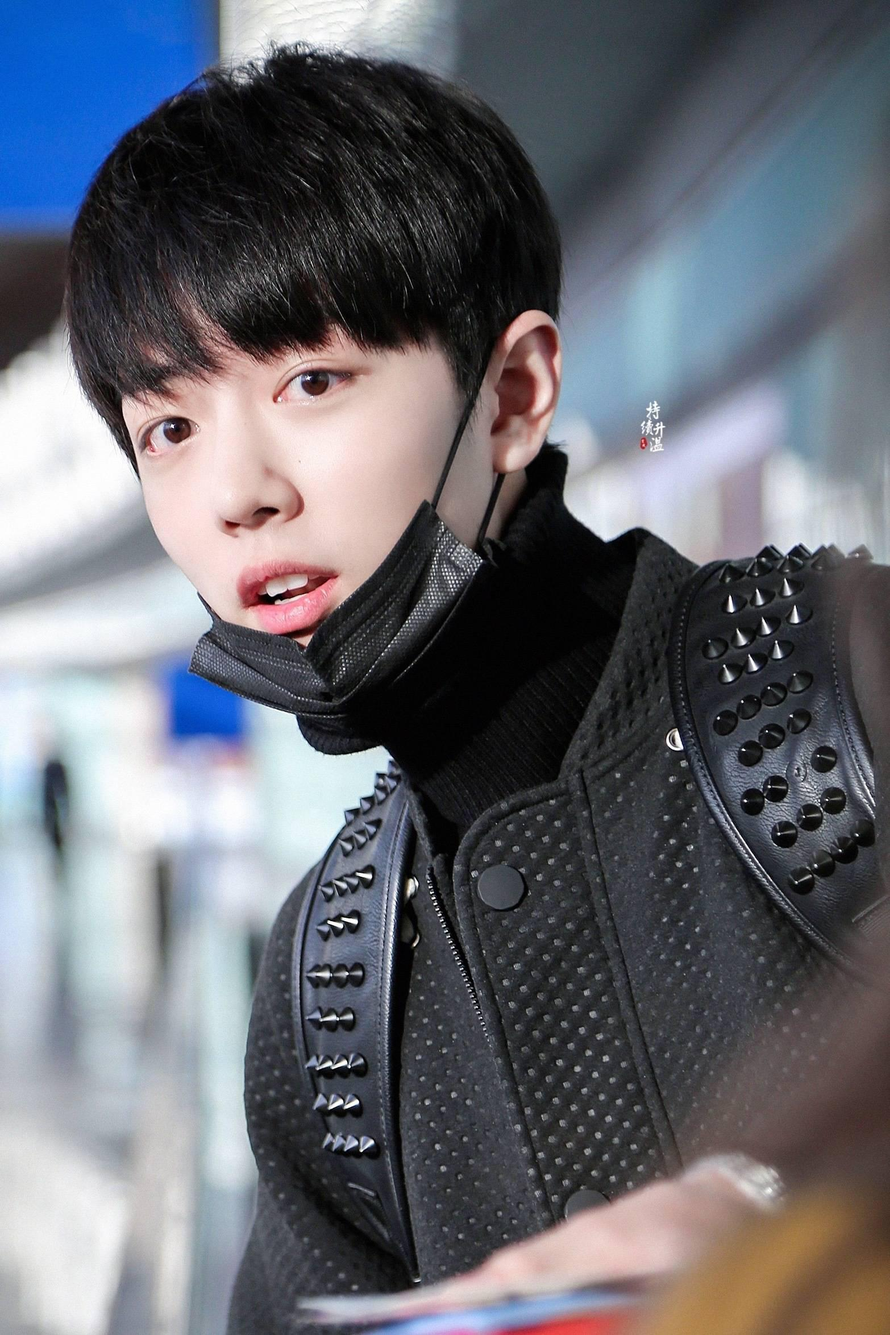WRONG: (117, 276, 457, 716)
